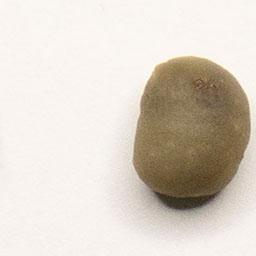peaberry: (128, 51, 256, 204)
